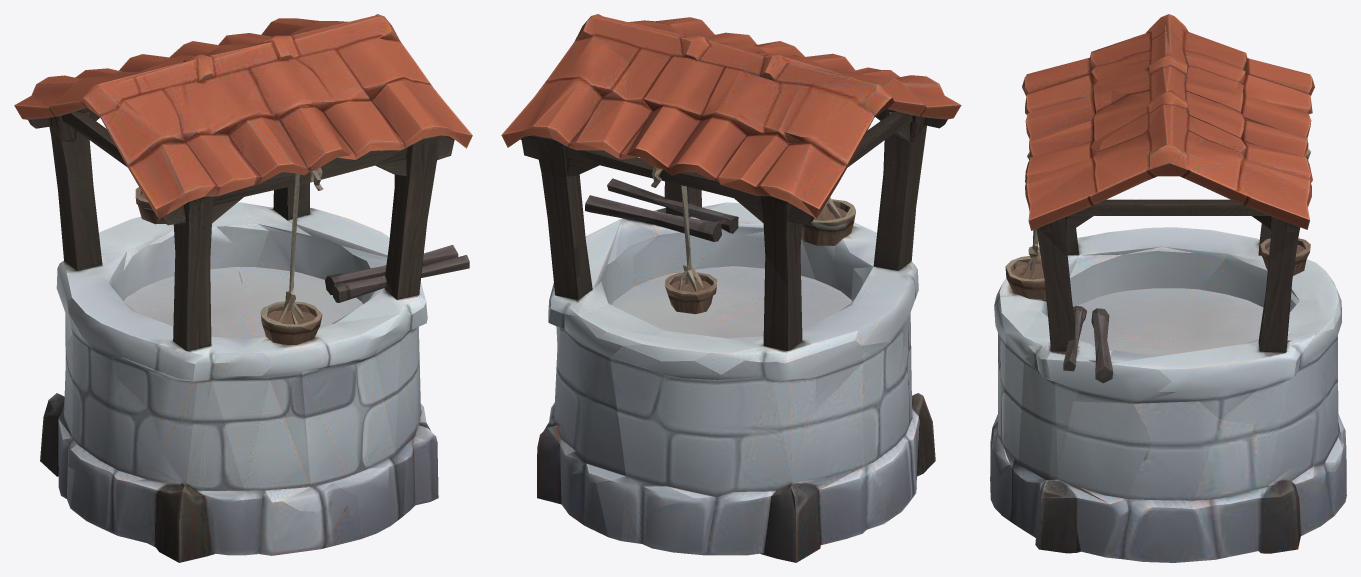
The model's file is well.glb.
3 renders of one model, left to right at view 1: azimuth 30°, elevation 25°; view 2: azimuth 150°, elevation 25°; view 3: azimuth 270°, elevation 25°, orthographic. The views are drawn at different scales.
Visible parts, largest first — view 1: well; view 2: well; view 3: well.
Boxes of the visible parts, x1,y1,x2,y2 form: well: [14, 14, 472, 562]; well: [501, 14, 961, 562]; well: [990, 14, 1346, 562].
Bounding box in the file's own units: 2.62 × 3.2 × 2.5.
Materials: 1 (1 with a texture image).
